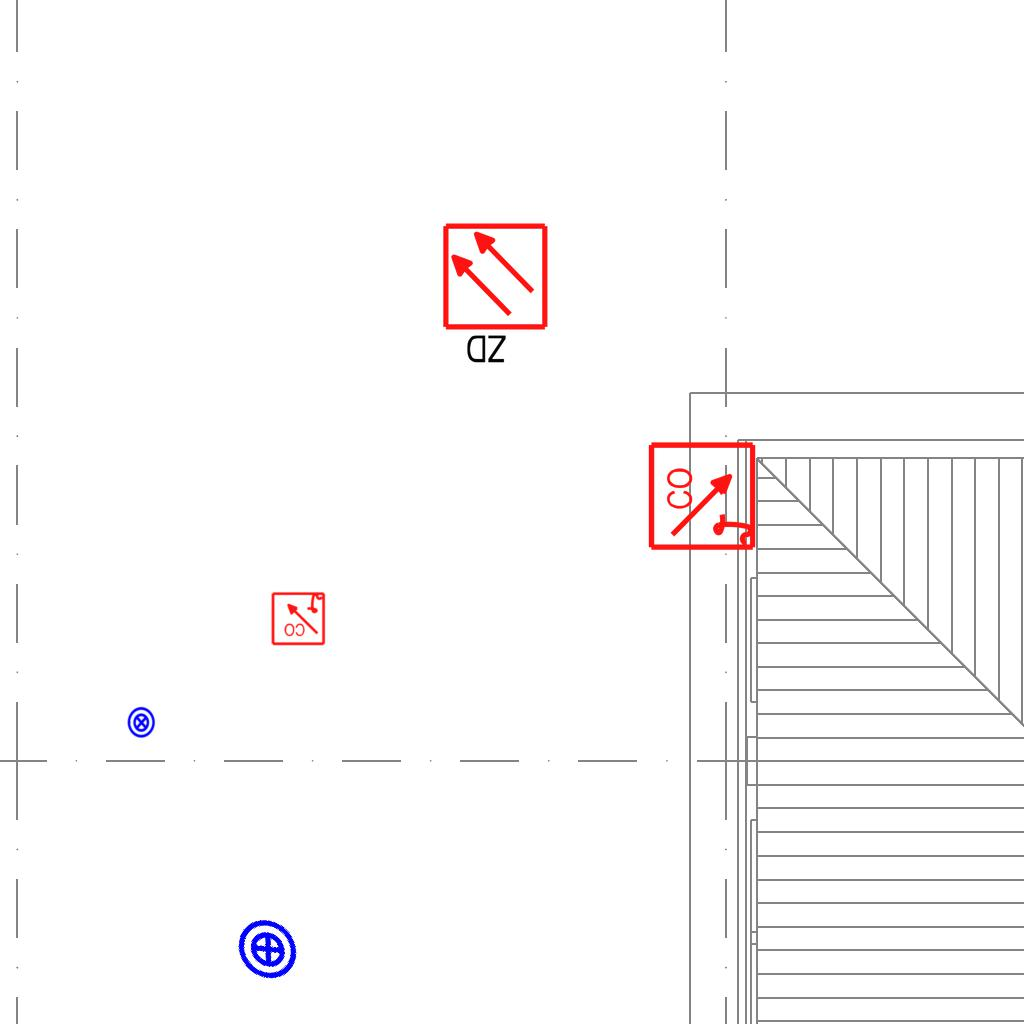ROA_Rauchmelder_optisch_mit_Signalgeber_(Sockelsirene): (647, 439, 760, 552), (270, 590, 326, 646)
Taster_beleuchtet: (221, 902, 315, 996), (125, 706, 158, 739)
ZD_Melder_in_Zwischendecke_mit_Revisionsoeffnung_mind_40_x_40_cm: (440, 221, 554, 370)
